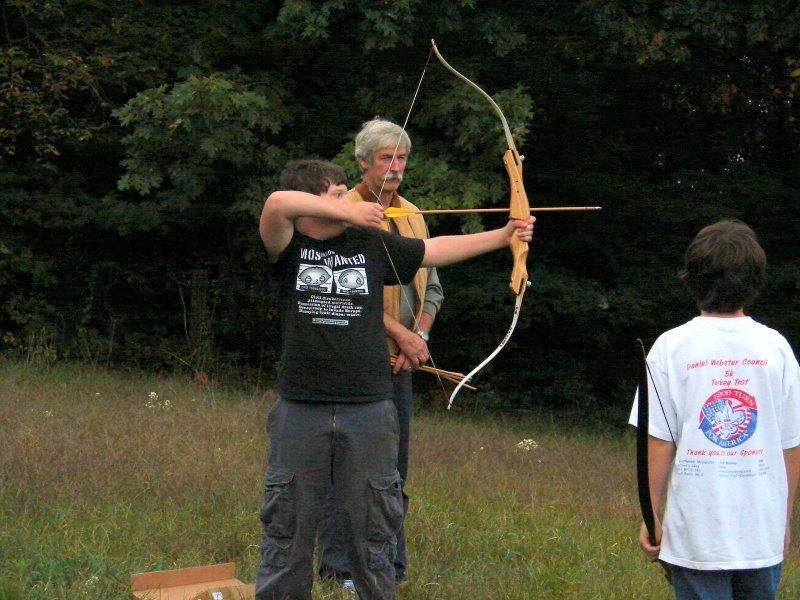person: (256, 154, 538, 600)
